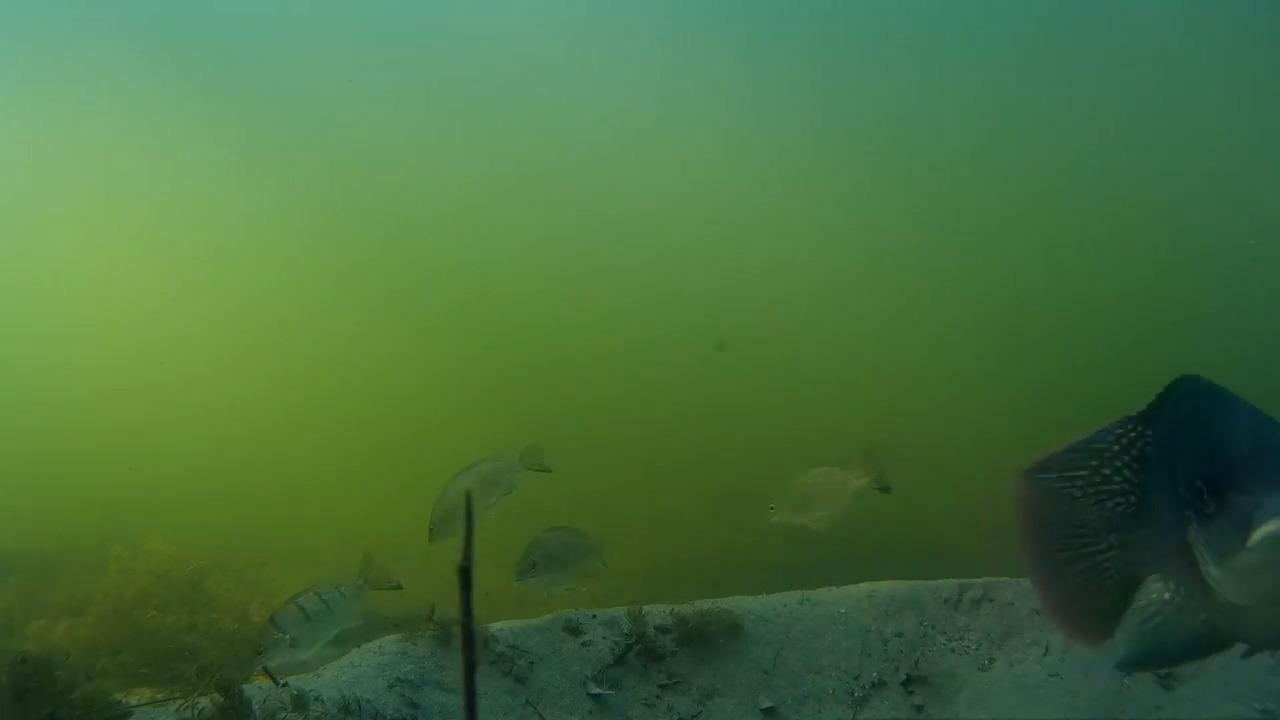Tilapia: (1008, 358, 1280, 685), (260, 550, 417, 705), (510, 516, 647, 638), (421, 430, 554, 548), (762, 445, 898, 542)
